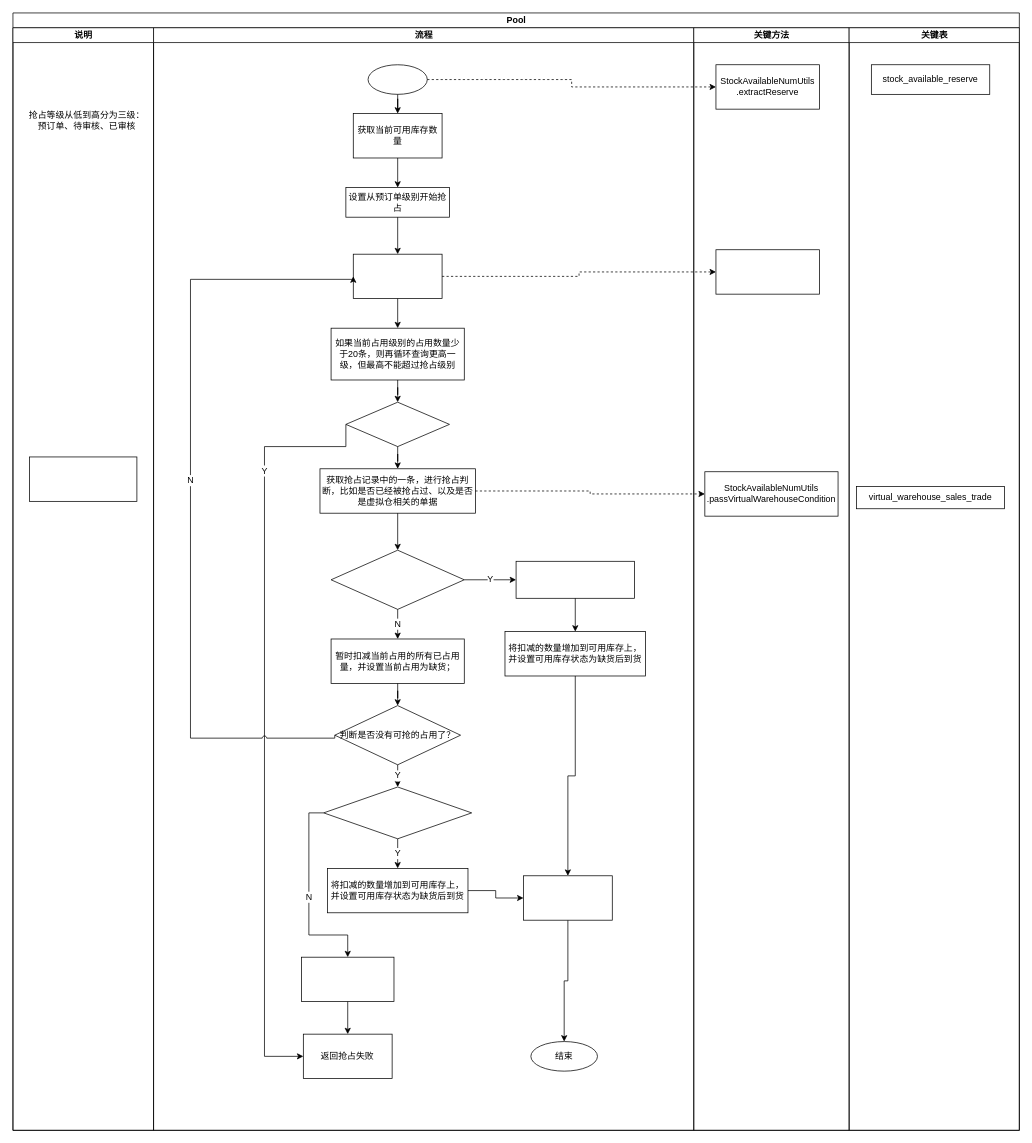
This 1032x1143 diagram has some shape labels left out. The centre of each missing label's shape, as x and y in pixels:
"StockAvailableNumUtils .getExtractReserveIds" belongs at (767,271).
"已抢占的加上当前记录数量已经足够" belongs at (397,579).
"开始" belongs at (397,79).
"归还之前被抢占的数量" belongs at (347,979).
"扣减当前占用的已占用数量，设置占用状态为缺货；" belongs at (574,579).
"是否允许部分抢占并且还少的数量少于当前可用的数量" belongs at (397,812).
"查找当前占用级别的占用记录" belongs at (397,276).
"没有可抢占的记录？" belongs at (397,424).
"虚拟仓锁定单据和相关订单的占用只有盘点单可以抢占" belongs at (83,478).
"返回抢占成功" belongs at (567,897).
